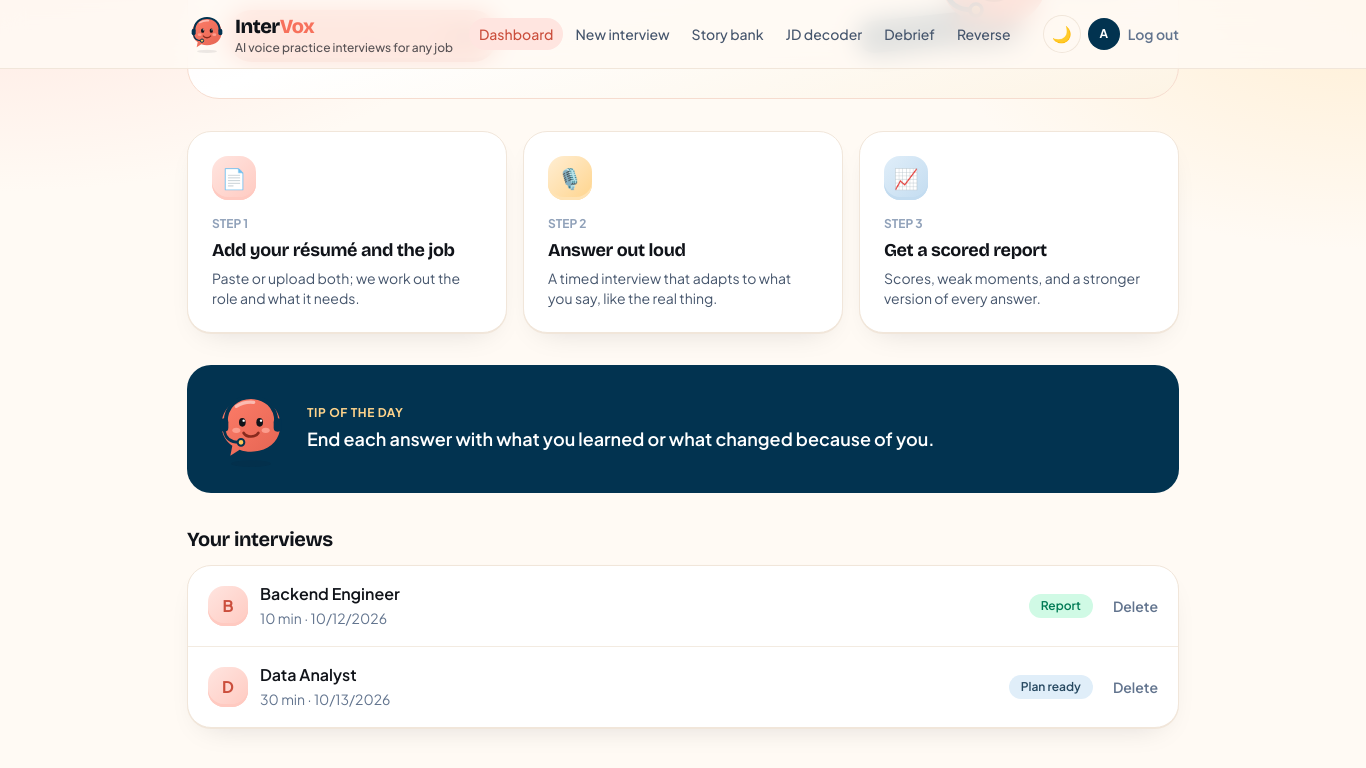
Test case: Dashboard interviews (T-136, T-137) › asks in the app dialog before deleting and keeps the interview on Cancel
(page scrolled)
What coordinates should you click on to do the following:
click the button with aria-label "Delete the interview Backend Engineer"
I would click on:
 (1135, 606)
Its box is [1093,596,1178,616].
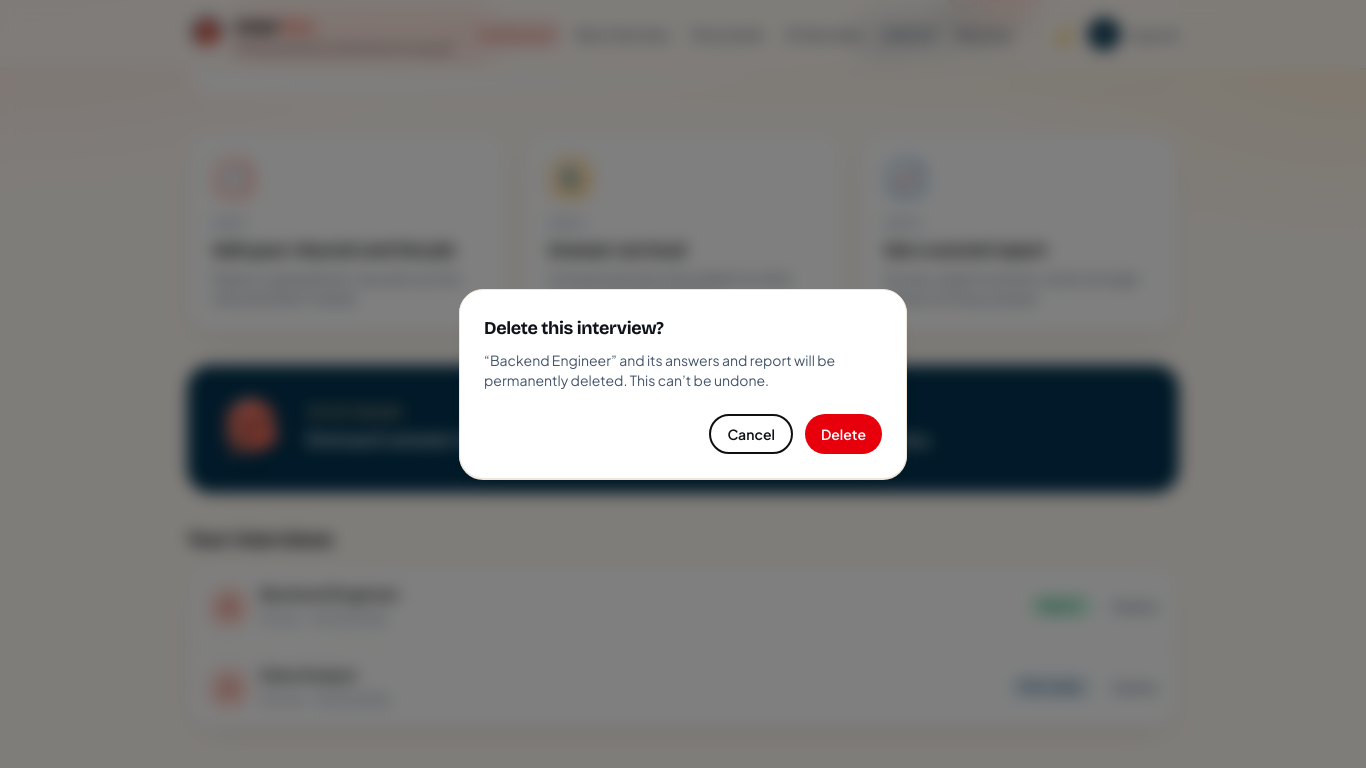
Expected: the dialog "Delete this interview?" shows "“Backend Engineer” and its answers and report will be permanently deleted. This can’t be undone.", [484,351,835,389]
What coordinates should you click on to do the following:
click the button "Cancel"
I would click on:
 (751, 434)
Its box is [709,414,793,454].
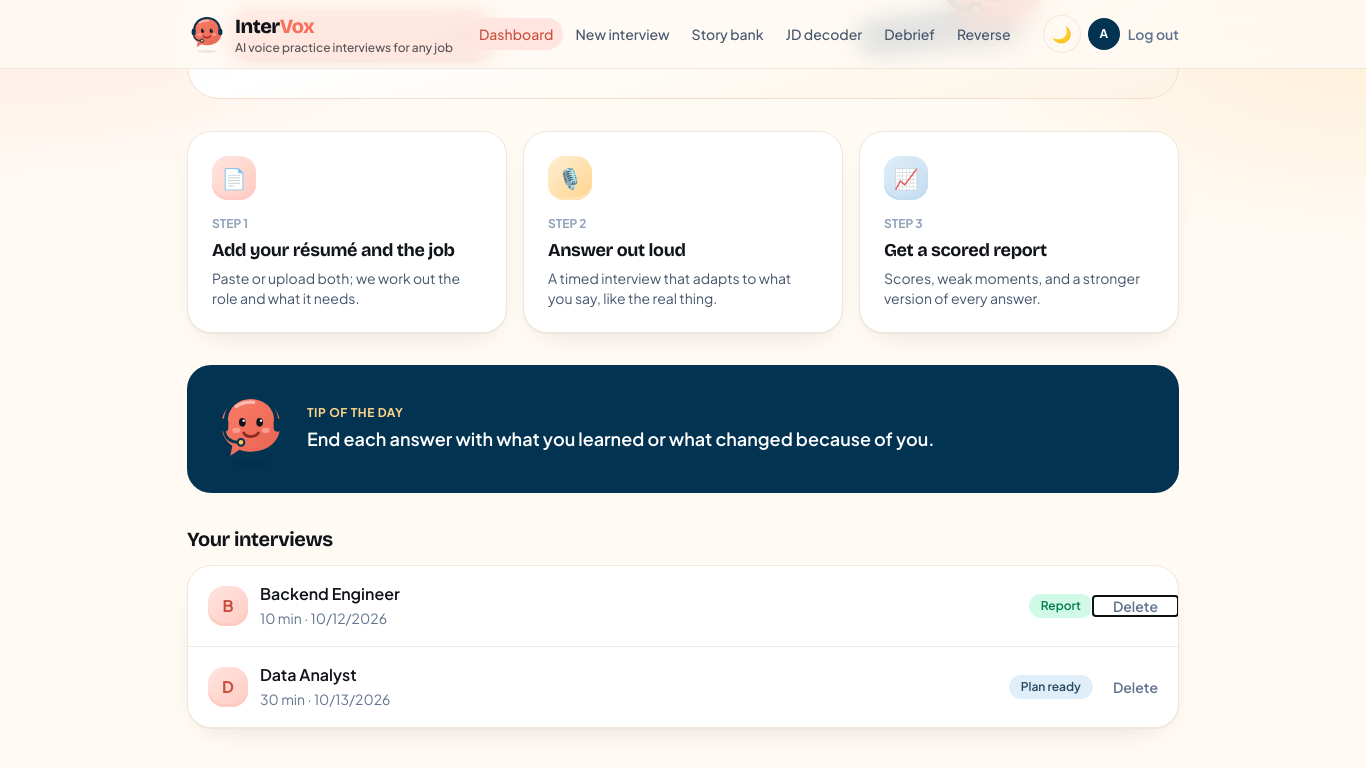
Expected: the text "Backend Engineer" is shown, [260,582,400,606]
Expected: the dialog is gone
